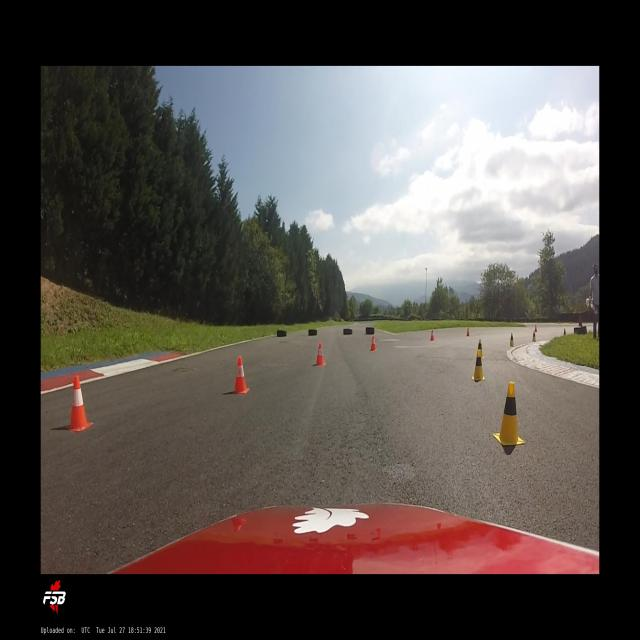orange_cone: (65, 376, 94, 432), (233, 356, 250, 394), (314, 342, 326, 367), (369, 334, 377, 352), (530, 330, 536, 342), (430, 329, 435, 342), (466, 327, 470, 337), (534, 324, 538, 332)
yellow_cone: (492, 382, 525, 445), (471, 349, 486, 382), (476, 338, 485, 358), (508, 332, 515, 348), (530, 330, 536, 342)
